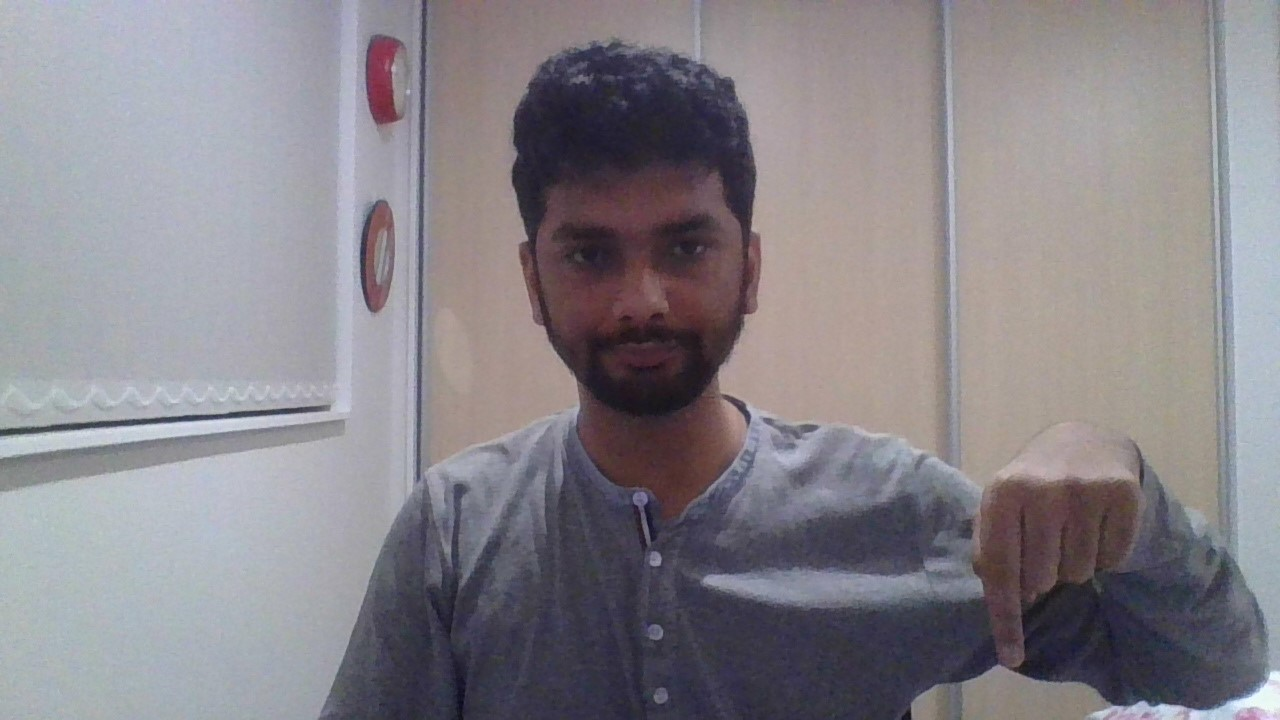below: (972, 422, 1141, 667)
